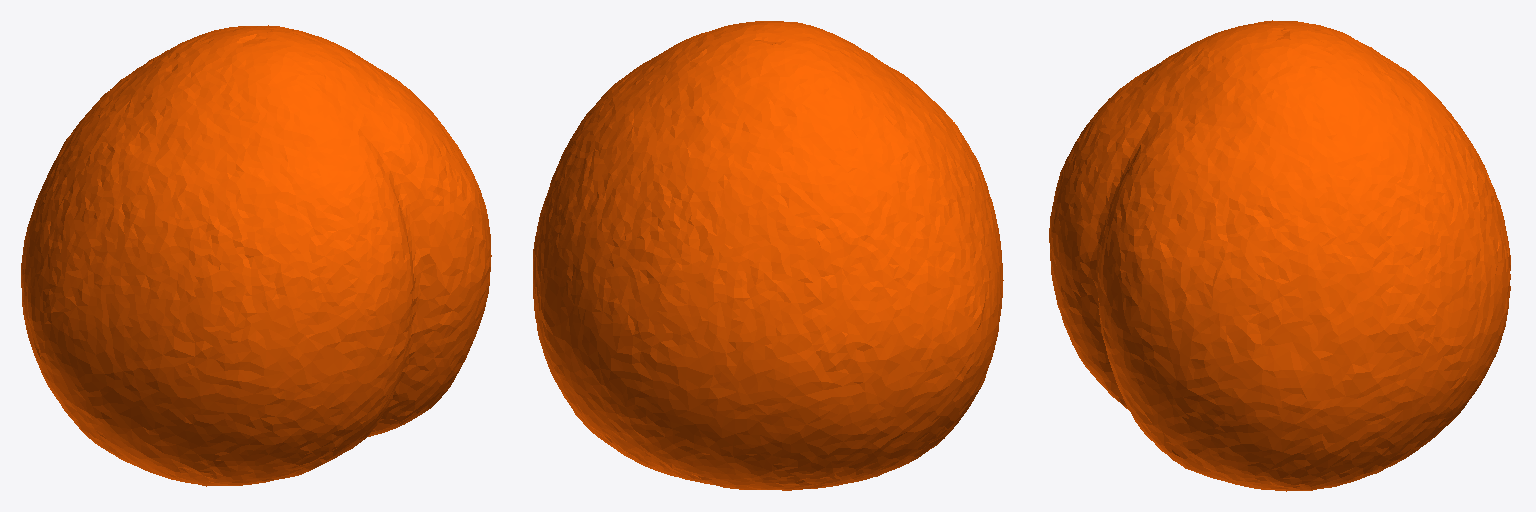
robot.urdf — 018_plum:
<?xml version="1.0" ?>
<robot name="018_plum">
   <material name="obj_color">
      <color rgba="1.0 0.423529411765 0.0392156862745 1.0"/>
   </material>
   <link name="top">
      <inertial>
         <origin rpy="4.91279187631175e-05 5.13732806477072e-05 5.326900162011612e-05" xyz="-0.0001119530619955507 0.0002025316129173125 -0.00238289254401913"/>
         <mass value="0.1689081771954411"/>
         <inertia ixx="4.92546901244665e-05" ixy="-5.642527126172942e-07" ixz="-4.117420993627744e-07" iyy="5.210266823958084e-05" iyz="8.82740443661892e-07" izz="5.241284266689352e-05"/>
      </inertial>
      <visual>
         <origin rpy="0 0 0" xyz="0 0 0"/>
         <geometry>
            <mesh filename="top_watertight_tiny.stl" scale="1 1 1"/>
         </geometry>
         <material name="obj_color"/>
      </visual>
      <collision>
         <origin rpy="0 0 0" xyz="0 0 0"/>
         <geometry>
            <mesh filename="top_watertight_tiny.obj" scale="1 1 1"/>
         </geometry>
      </collision>
   </link>
   <link name="bottom">
      <inertial>
         <origin rpy="1.633333333199431e-08 1.633333333199431e-08 1.633333333362855e-08" xyz="0.3464080000000008 0.3464080000000008 0.3464080000000008"/>
         <mass value="0.0009800000000000017"/>
         <inertia ixx="1.633333333253906e-08" ixy="5.447480642029219e-19" ixz="5.447480642029219e-19" iyy="1.633333333253906e-08" iyz="5.447480642029219e-19" izz="1.633333333253906e-08"/>
      </inertial>
      <visual>
         <origin rpy="0 0 0" xyz="0 0 0"/>
         <geometry>
            <mesh filename="bottom_watertight_tiny.stl" scale="1 1 1"/>
         </geometry>
         <material name="obj_color"/>
      </visual>
   </link>
   <joint name="rotation" type="revolute">
      <origin xyz="0 0 0"/>
      <axis xyz="0 0 -1"/>
      <parent link="bottom"/>
      <child link="top"/>
      <dynamics damping="1.0" friction="1.0"/>
      <limit effort="0.1" velocity="0.1" lower="0" upper="0.001"/>
   </joint>
</robot>

--- Facts derived from the render (not from the file) ---
Views: 3 orthographic renders of the robot side by side, from view 1: azimuth 30°, elevation 25°; view 2: azimuth 150°, elevation 25°; view 3: azimuth 270°, elevation 25°.
Robot: 018_plum — 2 links, 1 joints (1 revolute); root link bottom; default pose: all joints at 0.
Links seen in each view (by area): view 1: top; view 2: top; view 3: top.
Link boxes in pixels (x1,y1,x2,y2): top: (21,25,491,486); top: (533,21,1003,490); top: (1049,20,1510,491).
Size in the robot's own frame: 0.0572 by 0.0549 by 0.053 metres.
1 mesh visuals loaded from 2 distinct referenced files (1 binary STL); not drawn: 1 (reference not matched to a file when rendering).
